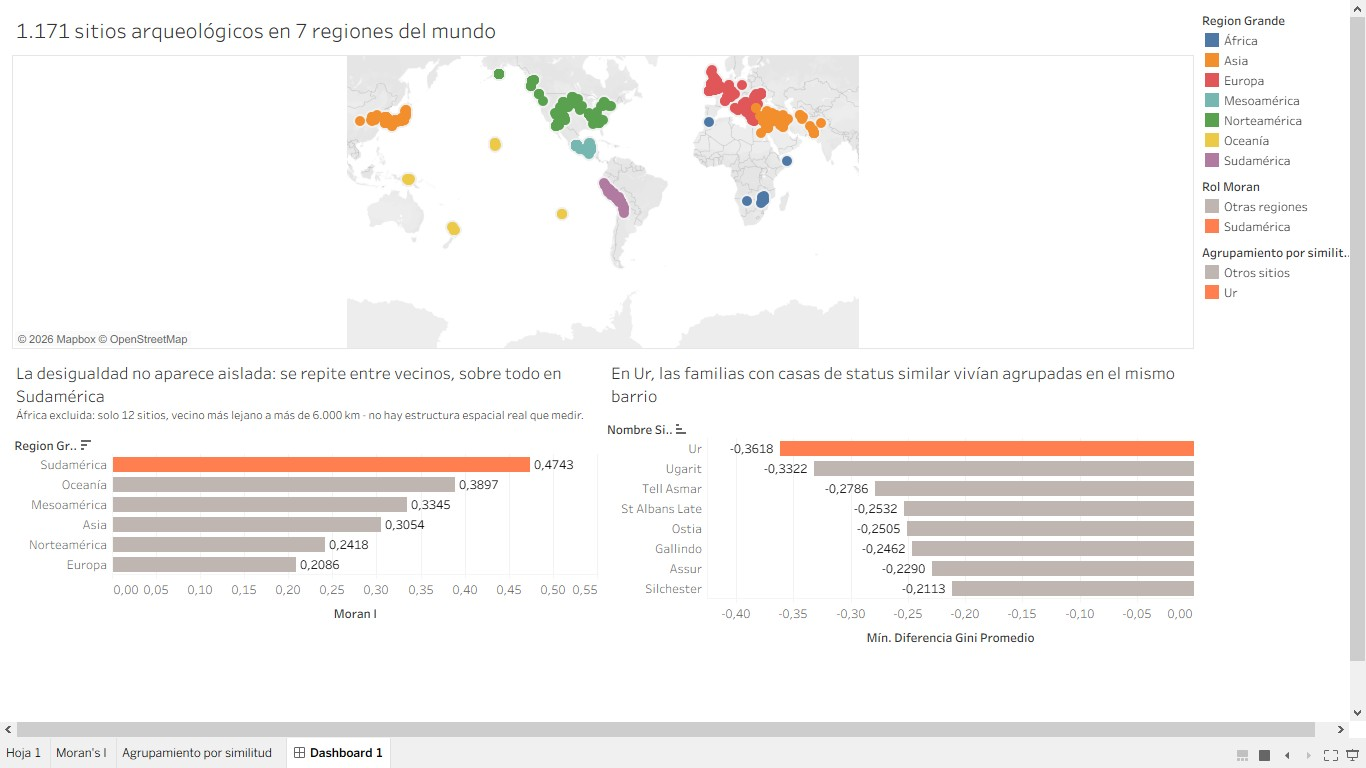

The dashboard page shown, as its layout file describes it:
{"tool":"tableau","page":{"name":"Dashboard 1","canvas":[1366,768],"ordinal":0},"visuals":[{"type":"worksheet","title":"Hoja 1","mark":"Automatic","rows":["latitud"],"cols":["longitud"],"box":[8,8,1190,344.7]},{"type":"legend","title":"Hoja 1","param":"[federated.0q6qs4u0rnzt4g15l3baz0yf2i5w].[none:region_grande:nk]","box":[1198,8,160,166]},{"type":"legend","title":"Moran's I","param":"[federated.1xjtmz11lz836j1f0jhip0mwqj3r].[none:Calculation_0272171877208065:nk]","box":[1198,174,160,66]},{"type":"legend","title":"Agrupamiento por similitud","param":"[federated.0kmijyd0em4vr312pt9vl1wan2ur].[none:Calculation_0272171894984706:nk]","box":[1198,240,160,66]},{"type":"worksheet","title":"Moran's I","mark":"Automatic","rows":["region_grande"],"cols":["F3"],"box":[8,352.7,595,407.3]},{"type":"worksheet","title":"Agrupamiento por similitud","mark":"Automatic","rows":["nombre_sitio"],"cols":["diferencia_gini_promedio"],"box":[603,352.7,595,407.3]}]}

Visuals, with their boxes on the page's 1366x768 design canvas (x1, y1, x2, y2). These are canvas units, not pixel positions in the 1366x768 screenshot, which may show the page scaled, cropped or inside an application window:
"Hoja 1" worksheet: left=8, top=8, right=1198, bottom=353
"Hoja 1" legend: left=1198, top=8, right=1358, bottom=174
"Moran's I" legend: left=1198, top=174, right=1358, bottom=240
"Agrupamiento por similitud" legend: left=1198, top=240, right=1358, bottom=306
"Moran's I" worksheet: left=8, top=353, right=603, bottom=760
"Agrupamiento por similitud" worksheet: left=603, top=353, right=1198, bottom=760
